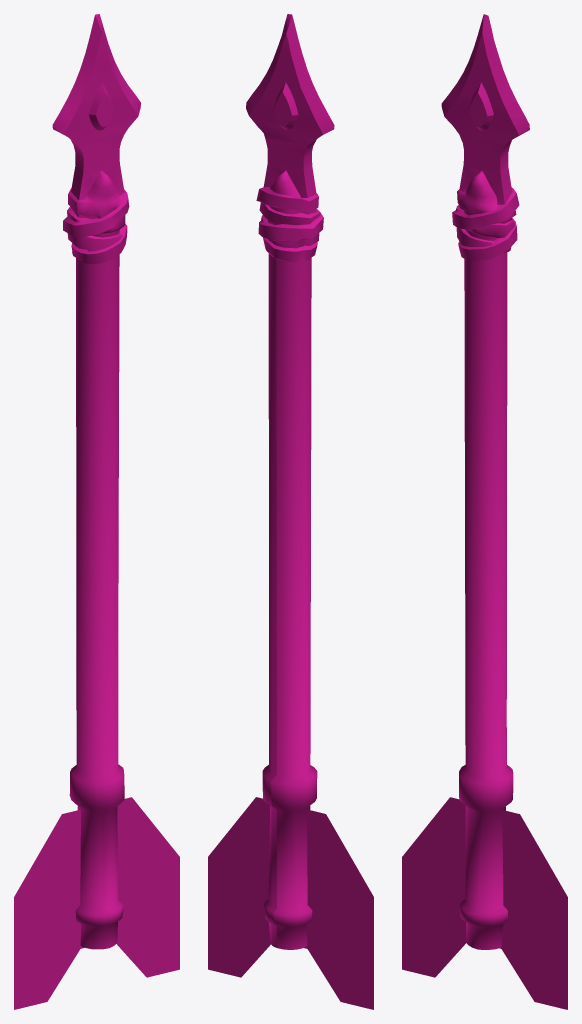
Rendered from SM_Rune_Arrow_1.obj.
The picture shows the model from 3 angles, left to right: view 1: azimuth 30°, elevation 25°; view 2: azimuth 150°, elevation 25°; view 3: azimuth 330°, elevation 25°; orthographic projection.
Size of the model in its own units: 66.72 by 376 by 19.25.
